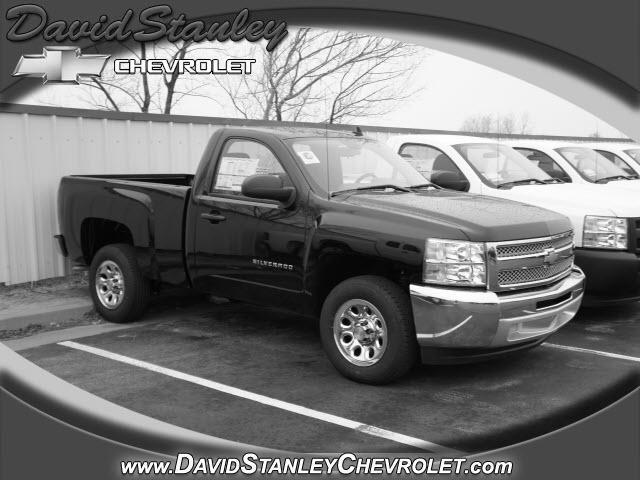car: (51, 121, 588, 387)
